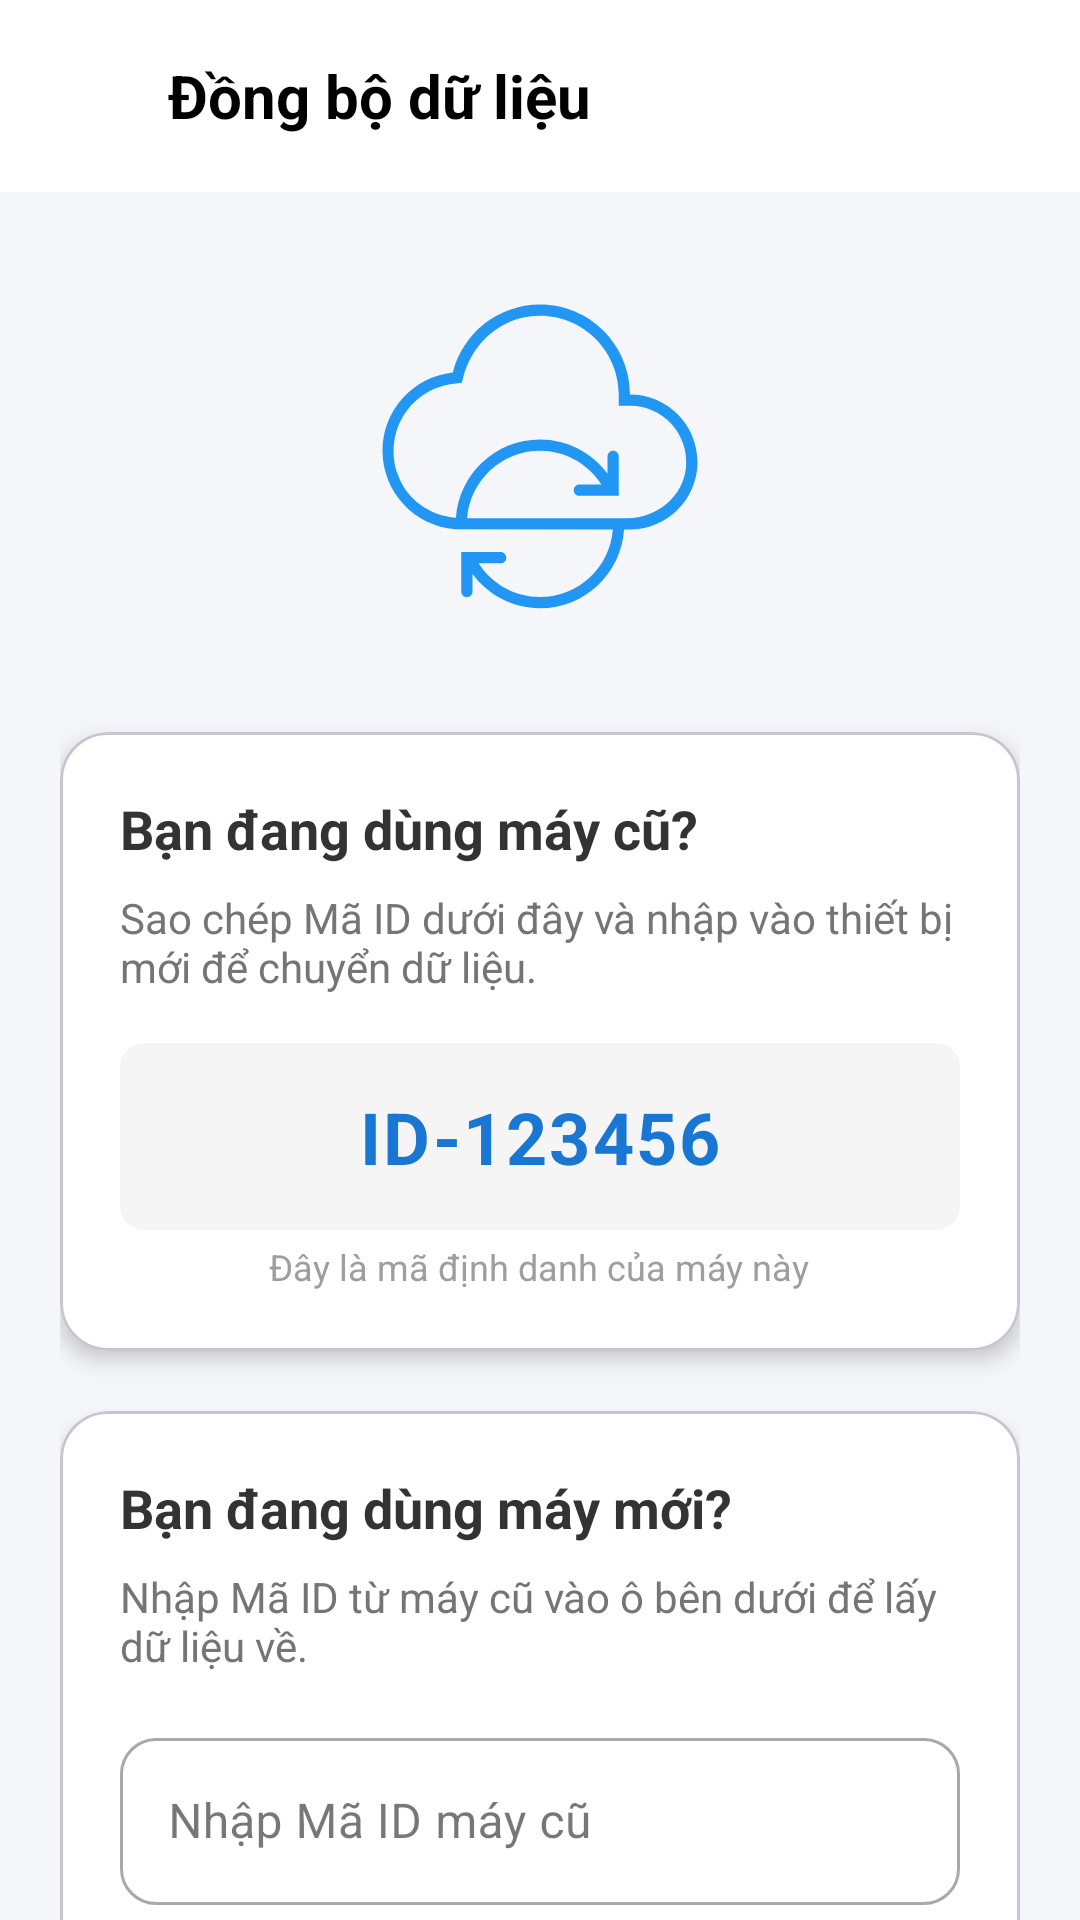

Where to tap for icons on this 1080 x 1920 app screen, as (x=x, y=y):
sync: (x=540, y=456)
